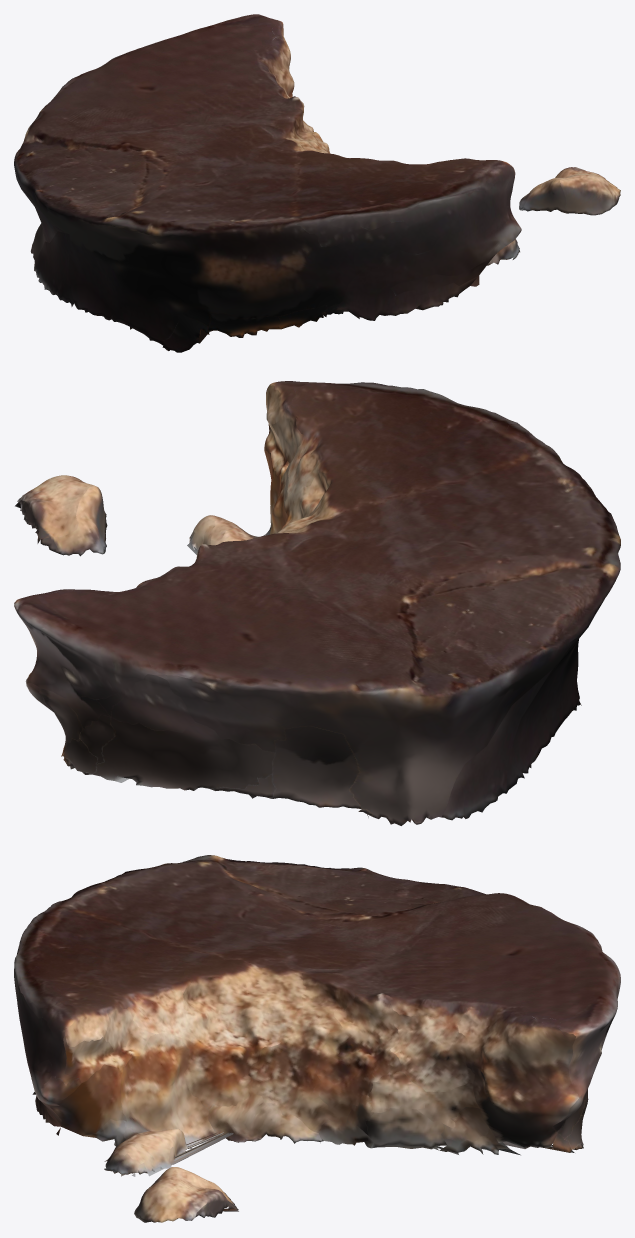
File: asset.glb
3 renders of one model, top to bottom at view 1: azimuth 30°, elevation 25°; view 2: azimuth 150°, elevation 25°; view 3: azimuth 270°, elevation 25°, orthographic. The views are drawn at different scales.
Visible parts, largest first — view 1: Mesh_0; view 2: Mesh_0; view 3: Mesh_0.
Part boxes in pixels (x1,y1,x2,y2): Mesh_0: (14,14,620,352); Mesh_0: (14,381,620,825); Mesh_0: (14,855,620,1222).
Size of the model in its own units: 1.21 by 0.372 by 1.07.
Materials: 1 (1 with a texture image).
